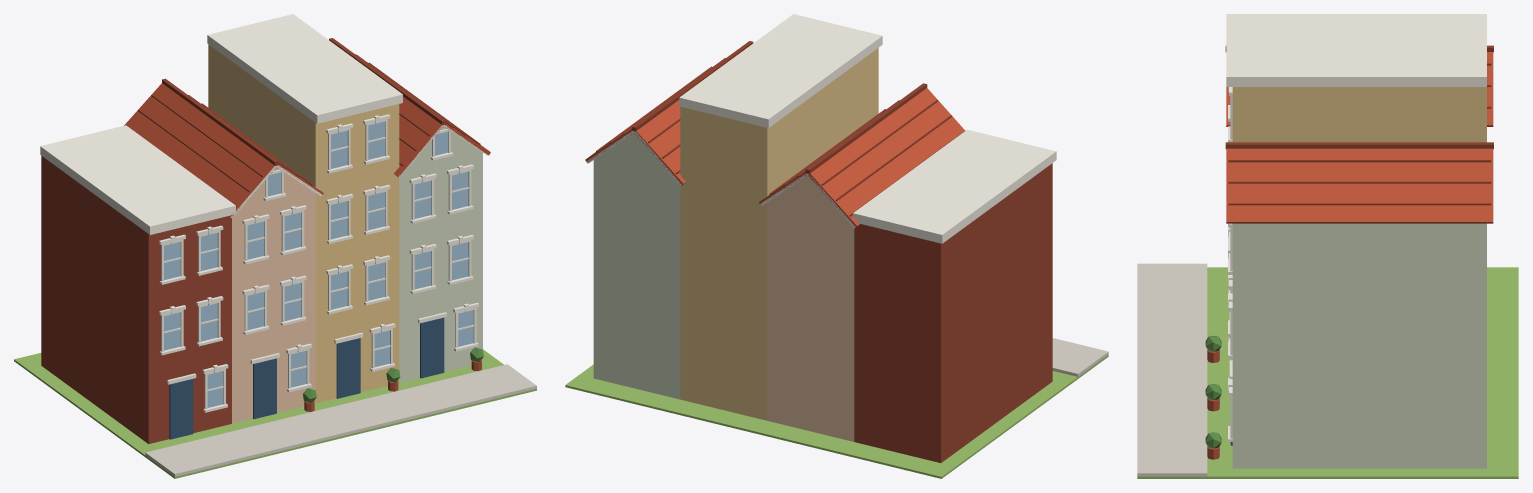
Rendered from Konut_sira_evler_1_Hafif.fbx.
3 views of the same model, side by side, from view 1: azimuth 30°, elevation 25°; view 2: azimuth 150°, elevation 25°; view 3: azimuth 270°, elevation 25° (orthographic). The views are drawn at different scales.
Visible parts, largest first — view 1: Konut_sira_evler_1_Hafif; view 2: Konut_sira_evler_1_Hafif; view 3: Konut_sira_evler_1_Hafif.
Boxes of the visible parts, bbox=[...] form: Konut_sira_evler_1_Hafif: bbox=[14, 14, 536, 478]; Konut_sira_evler_1_Hafif: bbox=[565, 14, 1108, 478]; Konut_sira_evler_1_Hafif: bbox=[1137, 14, 1518, 478].
Size of the model in its own units: 15.6 by 12.03 by 12.
